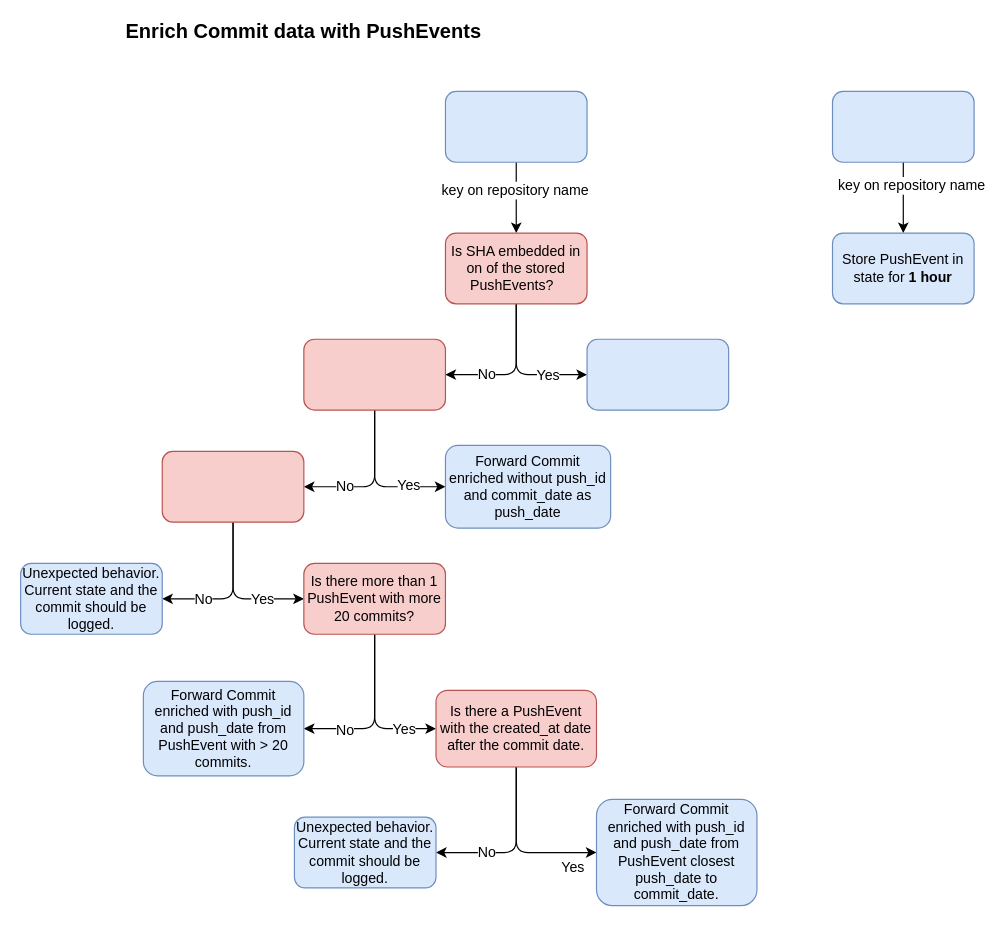
The diagram is 1005 pixels wide and 926 high, and some of its shapes have lost their labels. The shapes that lost their labels are listed below. From the top down, each one's centre as x and y in pixels, then its label:
At [515,126]: "Commit arrives".
At [902,126]: "PushEvent arrives".
At [374,374]: "Is Commit directly pushed from GitHub website?".
At [657,374]: "Forward Commit enriched with the push_id and push_date.".
At [232,486]: "Is there a PushEvent with more than 20 commits?".
